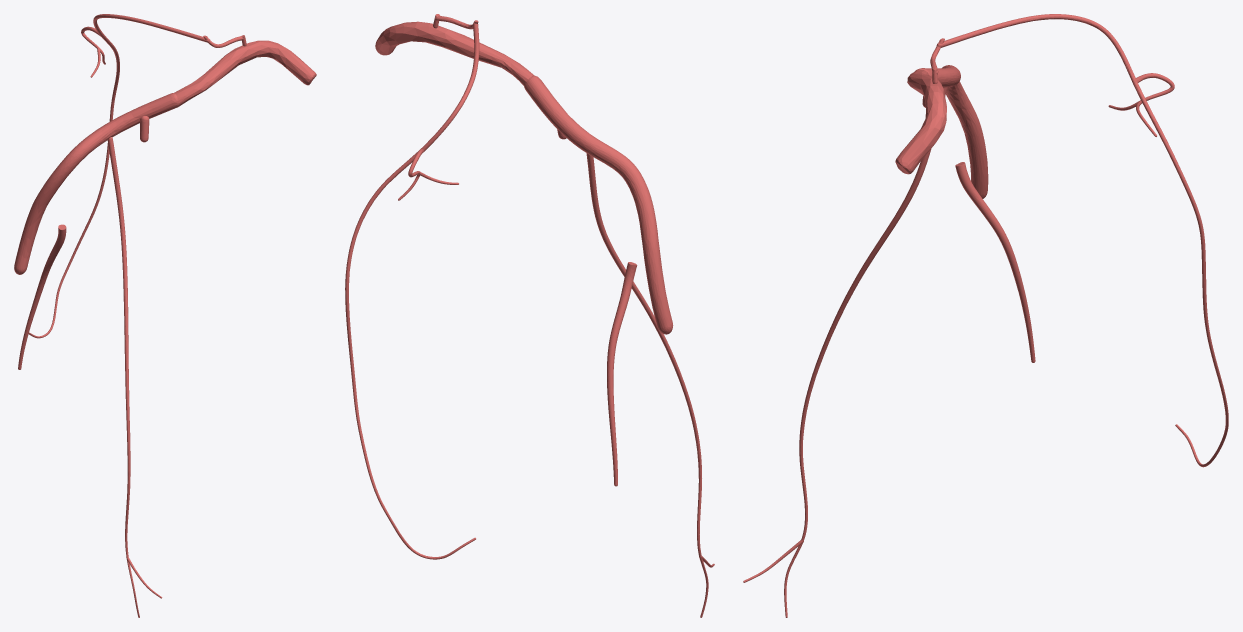
Rendered from shoulder-girdle-artery.glb.
3 renders of one model, left to right at view 1: azimuth 30°, elevation 25°; view 2: azimuth 150°, elevation 25°; view 3: azimuth 270°, elevation 25°, orthographic. The views are drawn at different scales.
Visible parts, largest first — view 1: axillary-artery__BP6023, subclavian-artery__BP10281, lateral-thoracic-artery__BP6288, dorsal-scapular-artery__BP6211, thoracodorsal-artery__BP6241; view 2: axillary-artery__BP6023, dorsal-scapular-artery__BP6211, subclavian-artery__BP10281, lateral-thoracic-artery__BP6288, thoracodorsal-artery__BP6241; view 3: dorsal-scapular-artery__BP6211, lateral-thoracic-artery__BP6288, axillary-artery__BP6023, subclavian-artery__BP10281, thoracodorsal-artery__BP6241.
Part boxes in pixels (left/top/right/bottom): axillary-artery__BP6023: left=14, top=93, right=177, bottom=274; subclavian-artery__BP10281: left=174, top=40, right=316, bottom=107; lateral-thoracic-artery__BP6288: left=107, top=137, right=162, bottom=617; dorsal-scapular-artery__BP6211: left=28, top=14, right=210, bottom=338; thoracodorsal-artery__BP6241: left=18, top=224, right=66, bottom=369; axillary-artery__BP6023: left=524, top=75, right=673, bottom=334; dorsal-scapular-artery__BP6211: left=345, top=22, right=479, bottom=559; subclavian-artery__BP10281: left=375, top=21, right=534, bottom=85; lateral-thoracic-artery__BP6288: left=586, top=153, right=714, bottom=617; thoracodorsal-artery__BP6241: left=607, top=262, right=637, bottom=486; dorsal-scapular-artery__BP6211: left=936, top=14, right=1228, bottom=467; lateral-thoracic-artery__BP6288: left=743, top=87, right=947, bottom=617; axillary-artery__BP6023: left=914, top=65, right=988, bottom=198; subclavian-artery__BP10281: left=895, top=70, right=946, bottom=174; thoracodorsal-artery__BP6241: left=955, top=162, right=1035, bottom=362.
Bounding box in the file's own units: 1.42 × 2.52 × 1.68.
